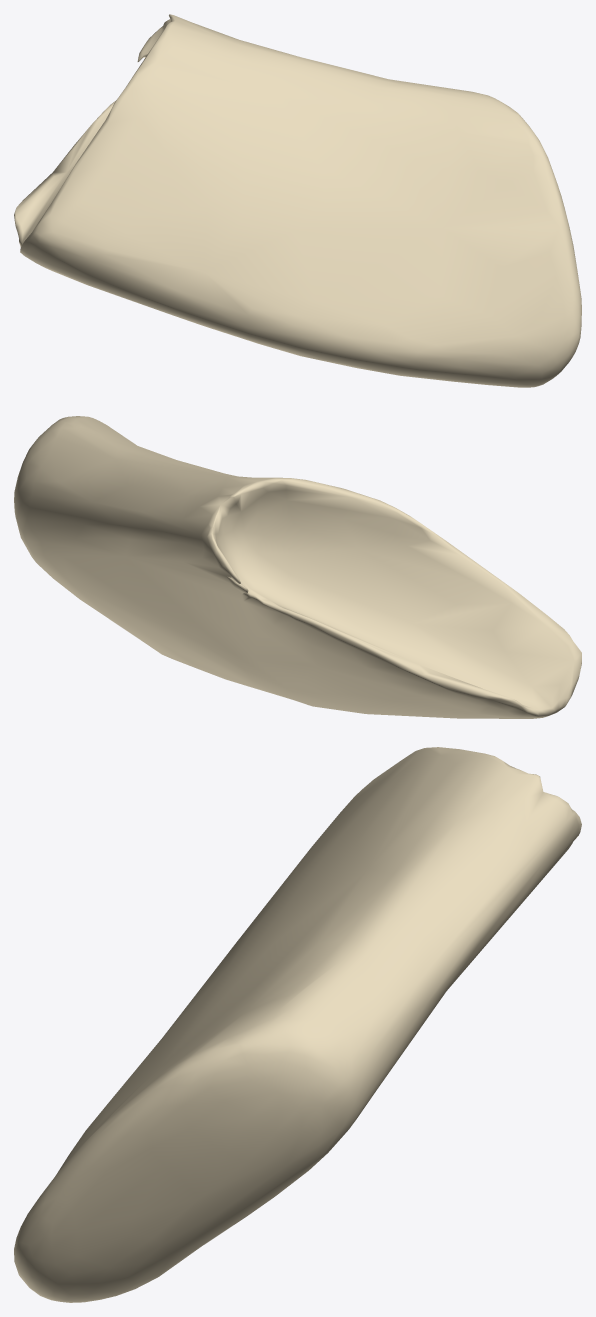
The model's file is esqueleto-costal-cartilage-of-first-rib-r.glb.
The picture shows the model from 3 angles, top to bottom: view 1: azimuth 30°, elevation 25°; view 2: azimuth 150°, elevation 25°; view 3: azimuth 270°, elevation 25°; orthographic projection. The views are drawn at different scales.
Parts seen in each view (by area): view 1: Costal cartilage of first rib.r; view 2: Costal cartilage of first rib.r; view 3: Costal cartilage of first rib.r.
Part boxes in pixels (x1=…): Costal cartilage of first rib.r: x1=14, y1=14, x2=581, y2=387; Costal cartilage of first rib.r: x1=14, y1=416, x2=581, y2=718; Costal cartilage of first rib.r: x1=14, y1=747, x2=581, y2=1302.
Bounding box in the file's own units: 0.0306 × 0.019 × 0.0241.
